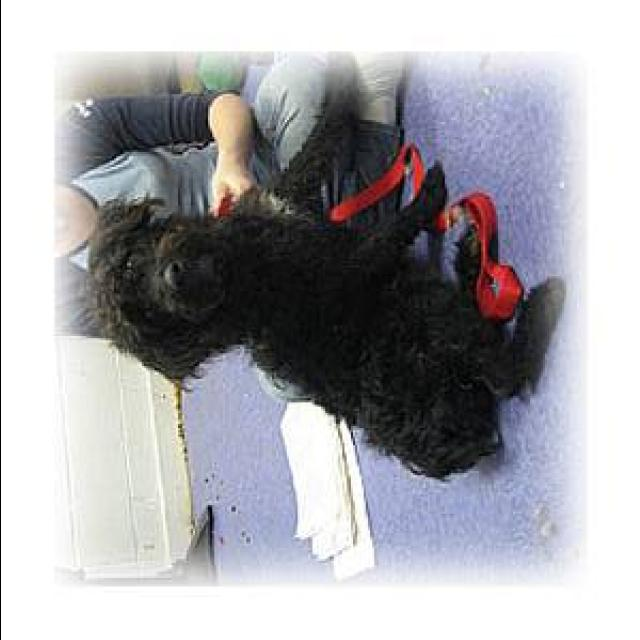dog: (86, 148, 546, 512)
